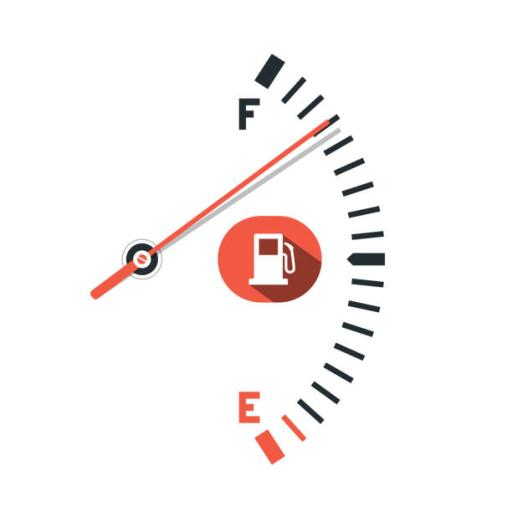empty: (230, 386, 268, 432)
fuel_icon: (249, 231, 300, 293)
full: (227, 91, 266, 134)
guage_area: (86, 16, 404, 487)
needle_center: (119, 231, 167, 288)
needle_tip: (314, 111, 332, 142)
